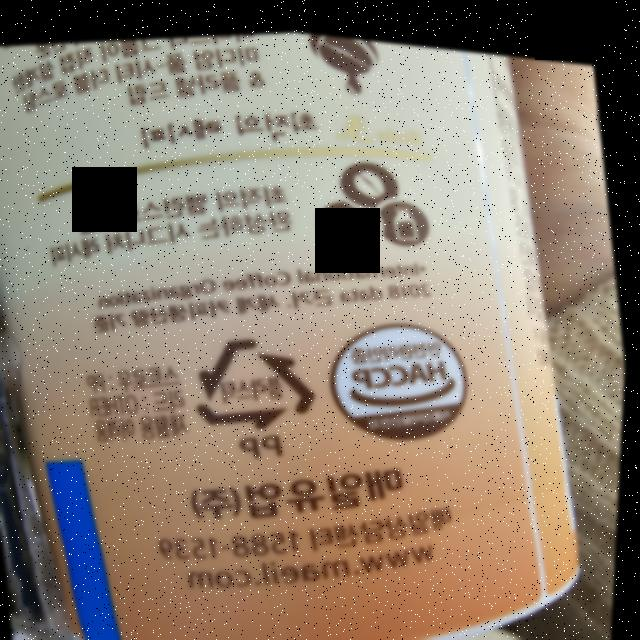Plastic: (186, 313, 328, 437)
